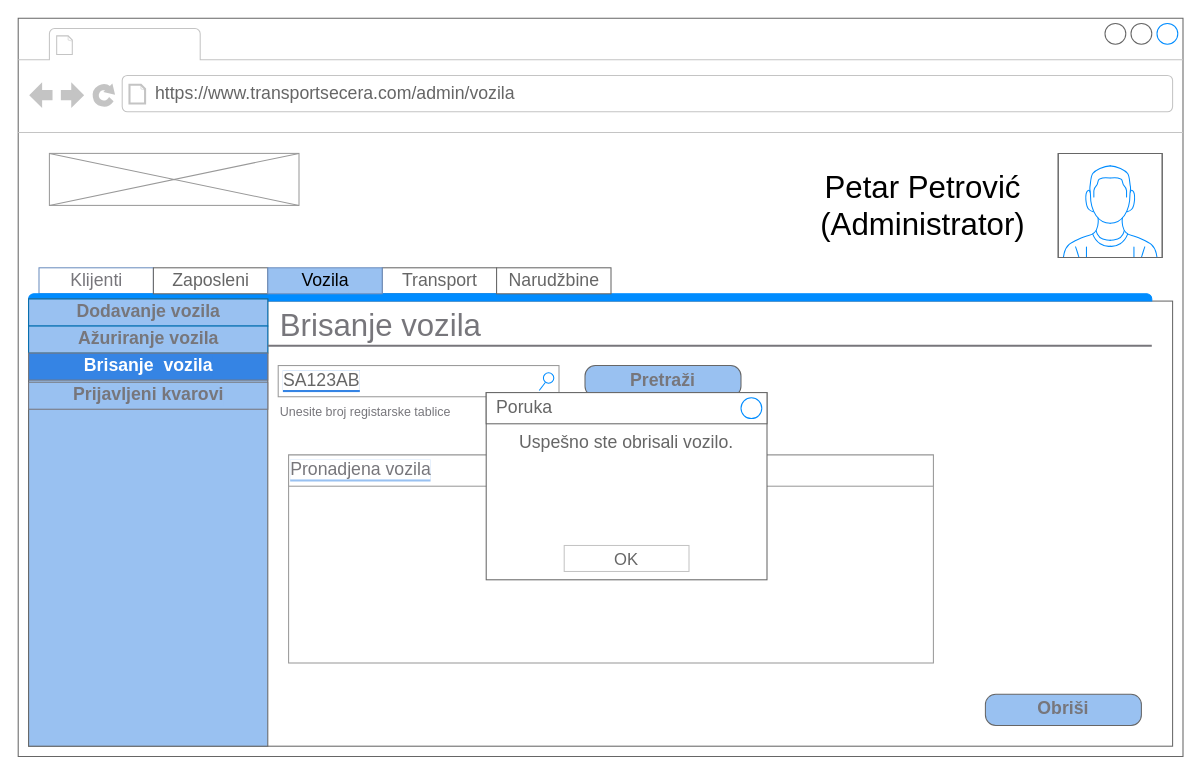
This 1201x775 diagram has some shape labels left out. Each missing label, with the centre of its shape:
LOGO: (x=173, y=178)
Transport šećera: (x=137, y=44)
